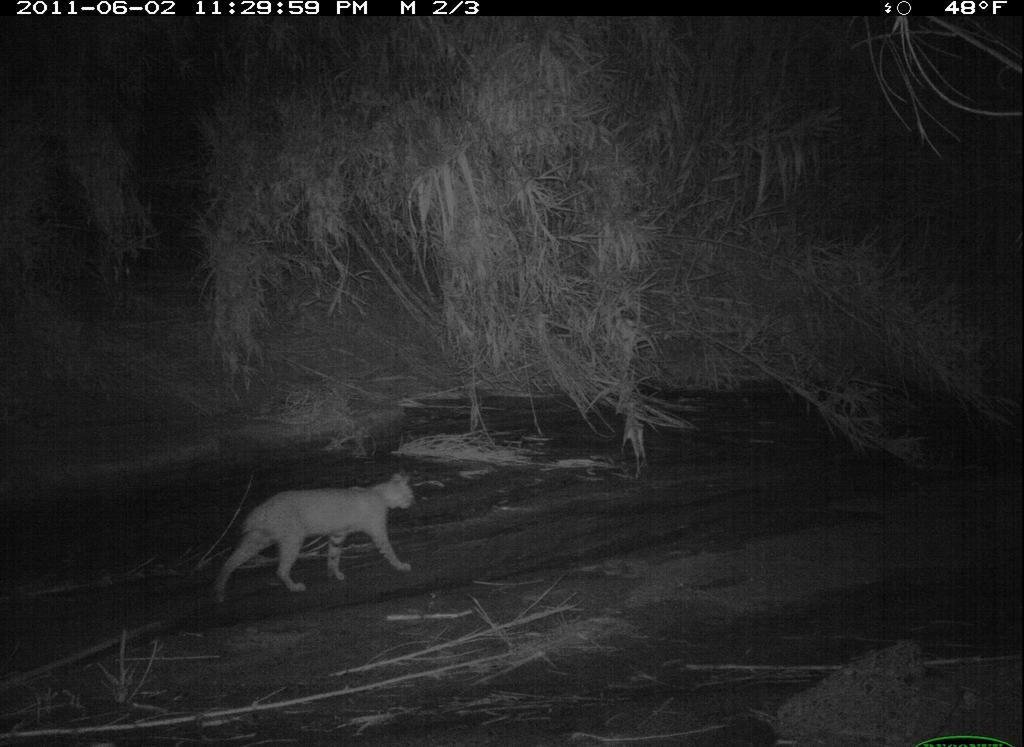bobcat: (201, 437, 433, 633)
